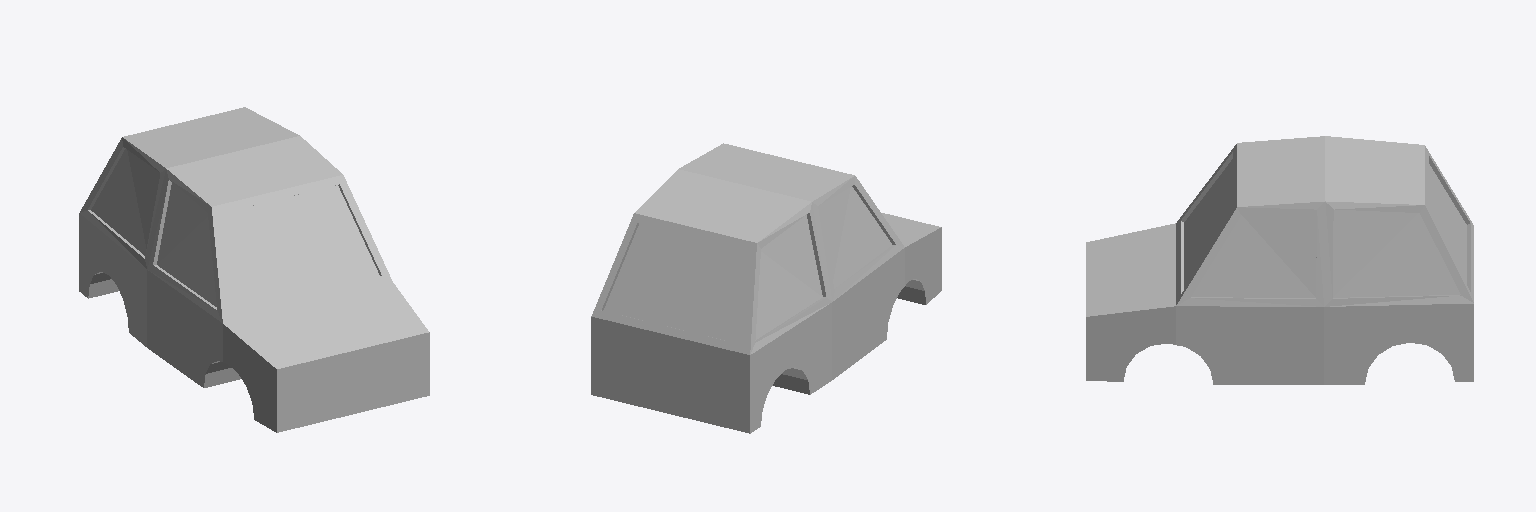
File: car_Mocup.obj
3 views of the same model, side by side, from view 1: azimuth 30°, elevation 25°; view 2: azimuth 150°, elevation 25°; view 3: azimuth 270°, elevation 25° (orthographic).
Visible parts, largest first — view 1: Cube.003; view 2: Cube.003; view 3: Cube.003.
Boxes of the visible parts, x1,y1,x2,y2 form: Cube.003: [79, 107, 429, 432]; Cube.003: [591, 143, 941, 433]; Cube.003: [1086, 136, 1473, 384].
Size of the model in its own units: 1.56 by 1.5 by 3.03.